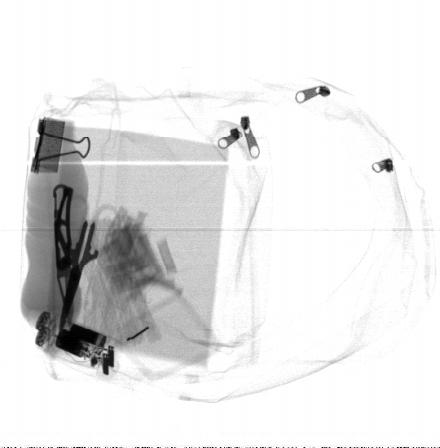Knife: (53, 183, 74, 329)
Scissors: (54, 193, 123, 339)
